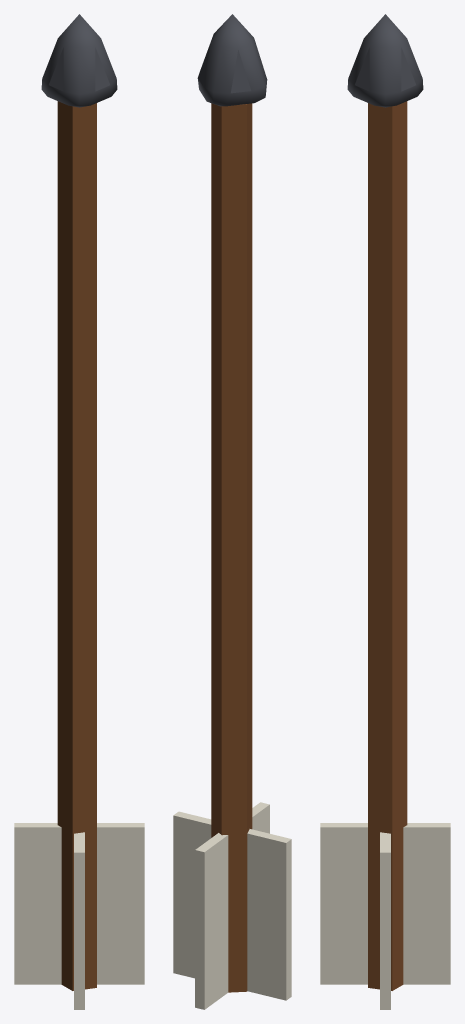
Rendered from p_arrow.glb.
3 renders of one model, left to right at view 1: azimuth 90°, elevation 25°; view 2: azimuth 150°, elevation 25°; view 3: azimuth 270°, elevation 25°, orthographic.
Visible parts, largest first — view 1: Arrow; view 2: Arrow; view 3: Arrow.
Boxes of the visible parts, x1=… form: Arrow: x1=14, y1=14, x2=144, y2=1009; Arrow: x1=173, y1=14, x2=291, y2=1009; Arrow: x1=320, y1=14, x2=450, y2=1009.
Bounding box in the file's own units: 0.12 × 0.9851 × 0.12.
